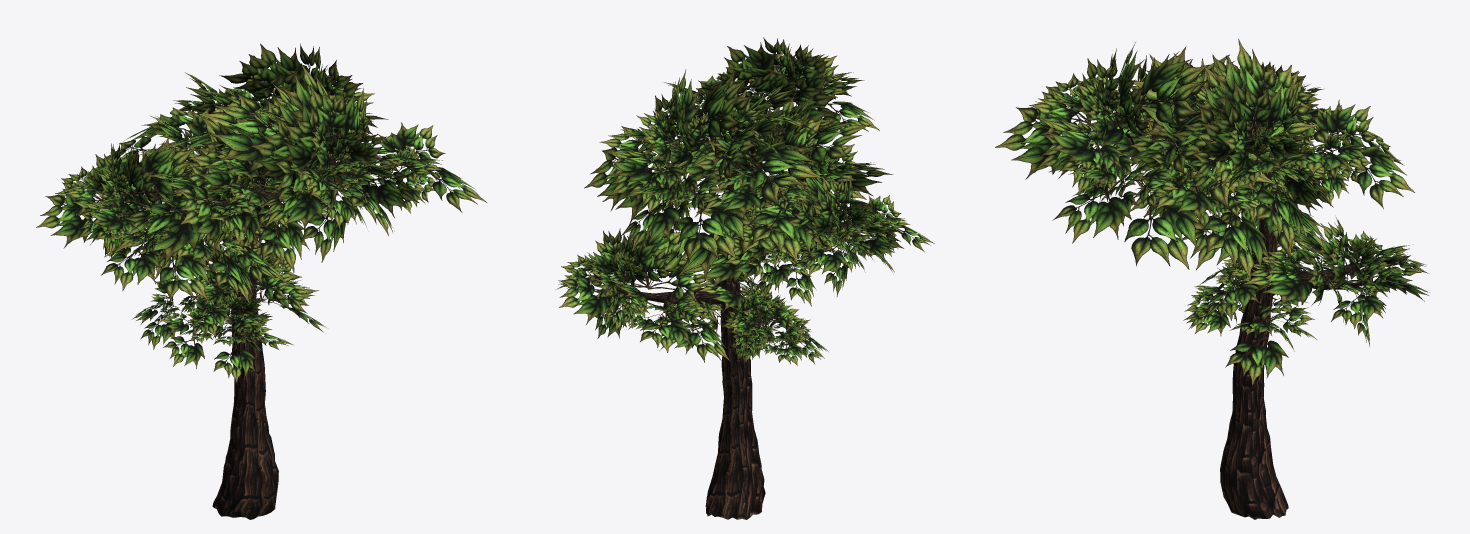
The model's file is tree_07.FBX.
3 renders of one model, left to right at view 1: azimuth 30°, elevation 25°; view 2: azimuth 150°, elevation 25°; view 3: azimuth 270°, elevation 25°, orthographic. The views are drawn at different scales.
Visible parts, largest first — view 1: t_012; view 2: t_012; view 3: t_012.
Part boxes in pixels (x1=…): t_012: x1=36, y1=43, x2=486, y2=519; t_012: x1=556, y1=37, x2=934, y2=519; t_012: x1=995, y1=39, x2=1429, y2=519.
Bounding box in the file's own units: 180 × 215 × 190.
